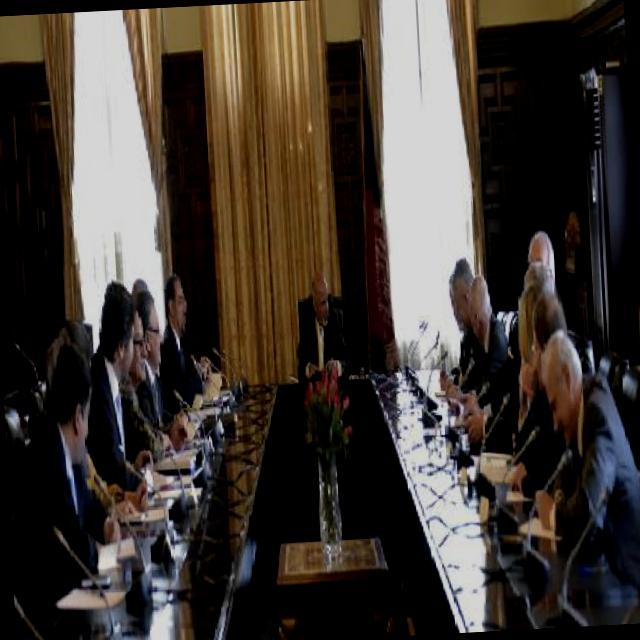Person: (0, 263, 225, 640), (433, 228, 640, 600), (294, 282, 350, 380)
